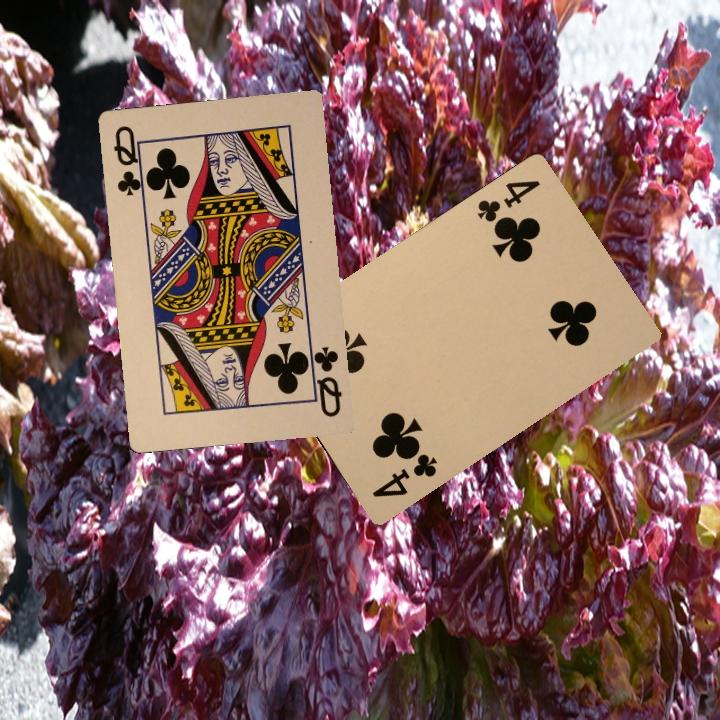4c: (472, 176, 543, 229), (368, 448, 440, 500)
Qc: (303, 342, 345, 419), (109, 121, 148, 199)
